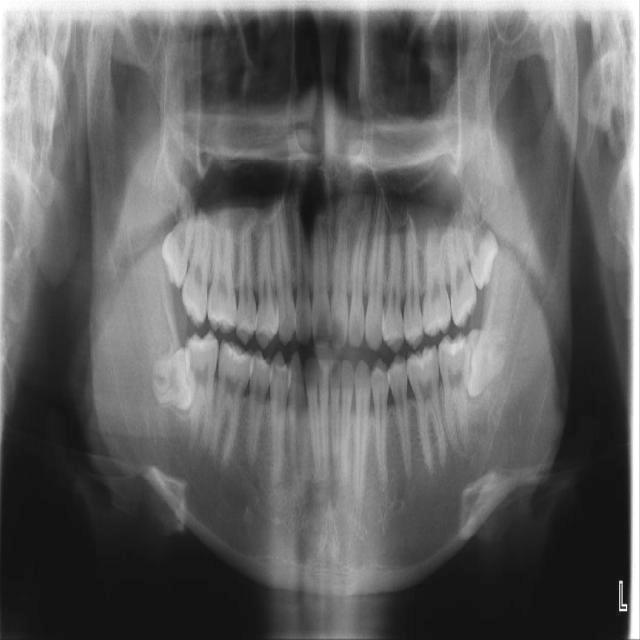impacted tooth: (162, 187, 194, 286), (467, 325, 508, 395), (465, 198, 496, 289), (152, 347, 192, 409)
